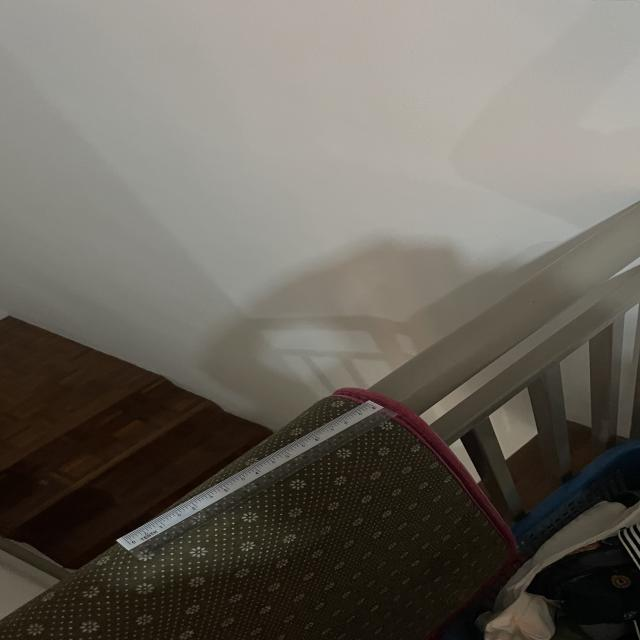ruler: (117, 400, 396, 559)
